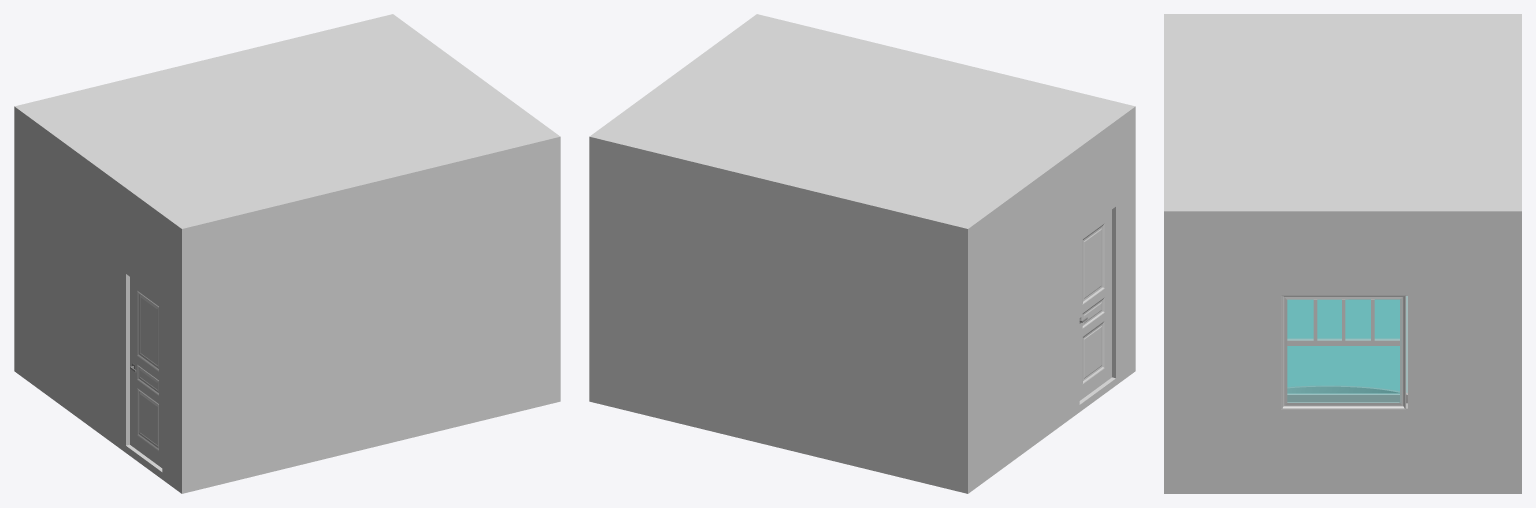
Rendered from BathroomSetFinal.fbx.
3 renders of one model, left to right at view 1: azimuth 30°, elevation 25°; view 2: azimuth 150°, elevation 25°; view 3: azimuth 270°, elevation 25°, orthographic. The views are drawn at different scales.
Parts seen in each view (by area): view 1: polySurface143, pCube64; view 2: polySurface143, pCube64; view 3: polySurface143, polySurface89, bathtub.
Part boxes in pixels (<box>): polySurface143: <box>14,14,560,493</box>; pCube64: <box>130,277,162,467</box>; polySurface143: <box>589,14,1135,493</box>; pCube64: <box>1079,209,1111,400</box>; polySurface143: <box>1164,14,1521,493</box>; polySurface89: <box>1281,295,1406,409</box>; bathtub: <box>1287,385,1407,403</box>.
Size of the model in its own units: 4.57 by 3.05 by 3.5.
